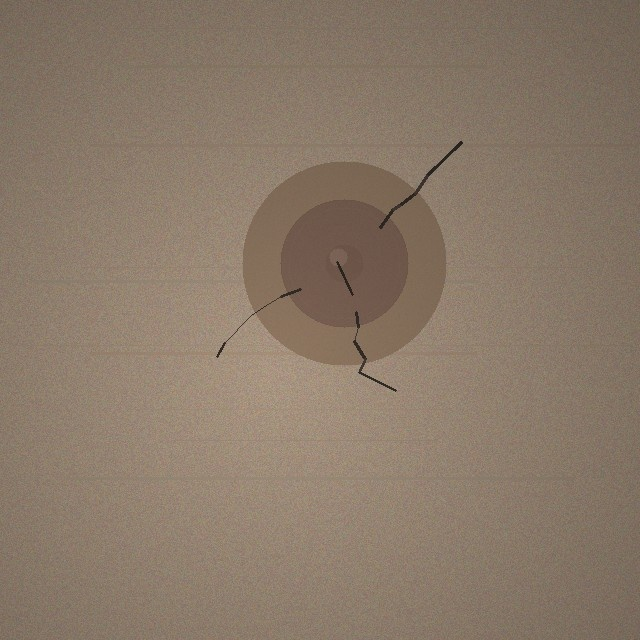crack: (242, 161, 446, 365)
